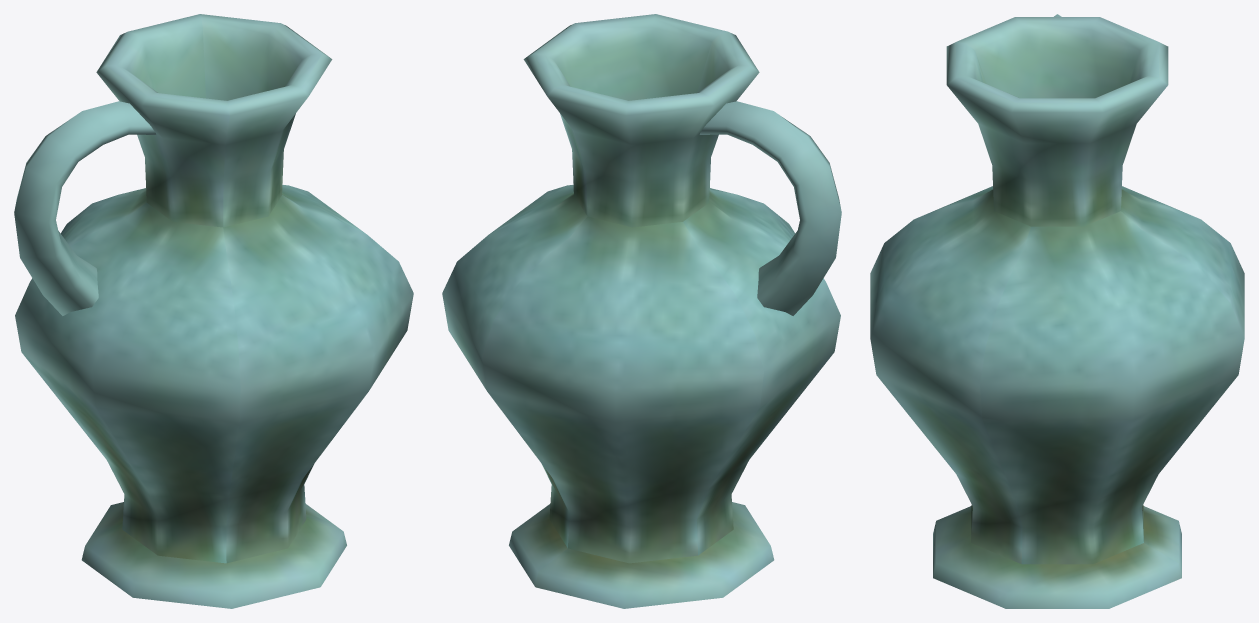
The model's file is t4_jug_crystal.glb.
3 renders of one model, left to right at view 1: azimuth 30°, elevation 25°; view 2: azimuth 150°, elevation 25°; view 3: azimuth 270°, elevation 25°, orthographic.
Visible parts, largest first — view 1: kitchen_props_craftable_jug_crystal_01; view 2: kitchen_props_craftable_jug_crystal_01; view 3: kitchen_props_craftable_jug_crystal_01.
Boxes of the visible parts, bbox=[...] form: kitchen_props_craftable_jug_crystal_01: bbox=[14, 14, 413, 608]; kitchen_props_craftable_jug_crystal_01: bbox=[442, 14, 841, 608]; kitchen_props_craftable_jug_crystal_01: bbox=[870, 14, 1244, 608].
Size of the model in its own units: 0.4685 by 0.6111 by 0.4175.
Materials: 1 (1 with a texture image).
